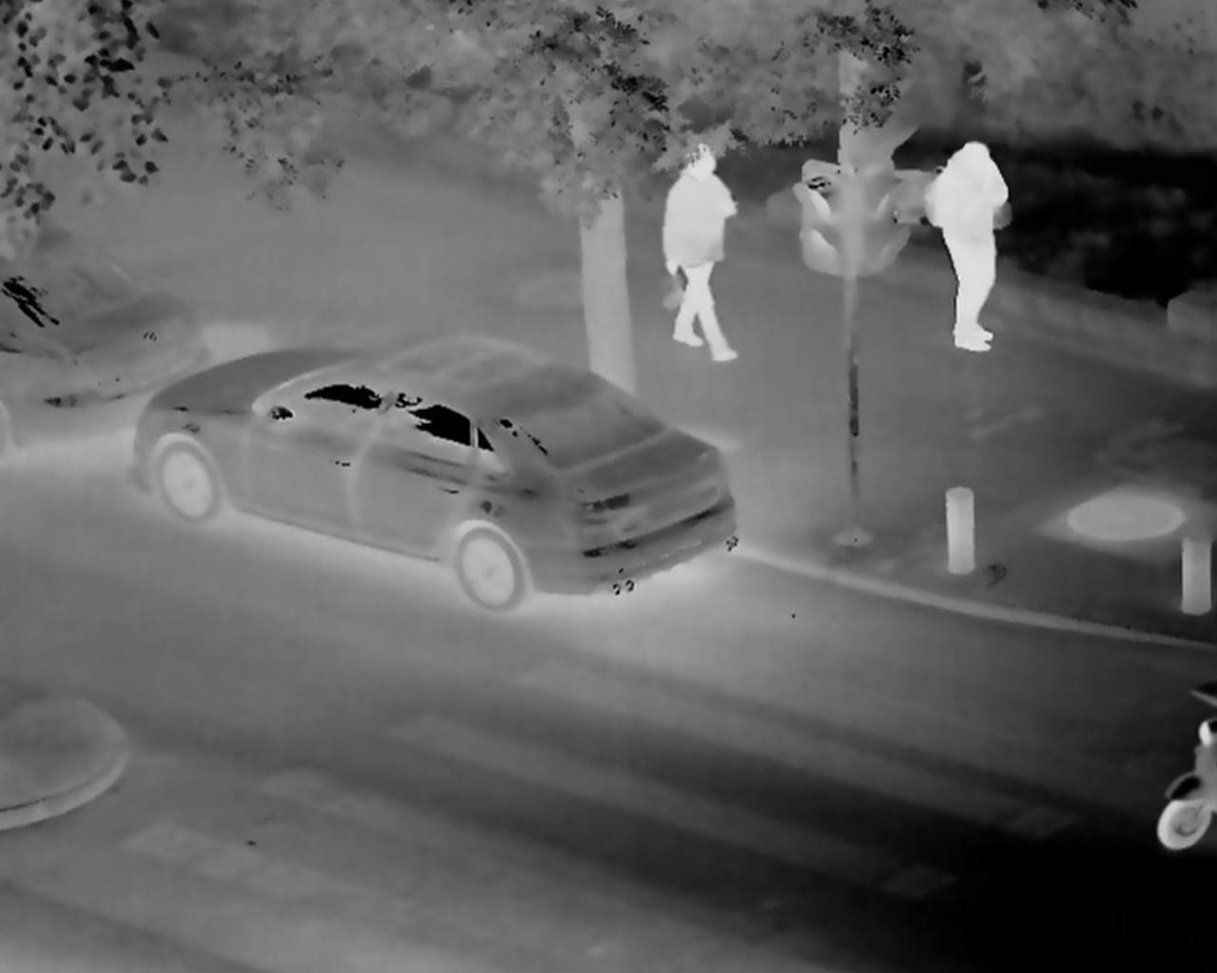person: (916, 135, 1016, 351), (661, 138, 744, 363)
